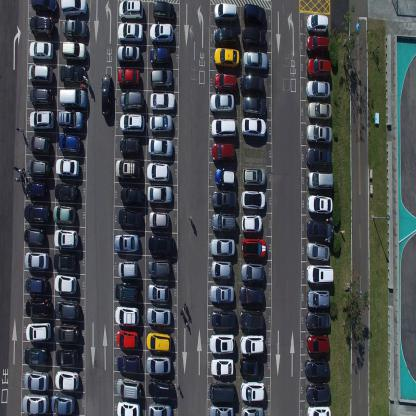car: (212, 46, 240, 70), (59, 86, 87, 110), (21, 392, 49, 416), (241, 236, 267, 261), (242, 49, 269, 72), (210, 116, 237, 139), (114, 157, 141, 180), (117, 21, 144, 44), (306, 263, 334, 285), (210, 212, 238, 234), (147, 234, 175, 256), (29, 39, 54, 63), (304, 356, 330, 379), (307, 193, 333, 216), (306, 122, 332, 145), (146, 330, 172, 353), (148, 376, 174, 399), (116, 376, 142, 399), (29, 108, 55, 131), (210, 308, 237, 330), (58, 110, 85, 132), (23, 202, 50, 224), (241, 95, 266, 118), (240, 333, 265, 356), (211, 142, 236, 165), (119, 184, 144, 207), (54, 322, 79, 345), (29, 15, 54, 38), (240, 379, 266, 401), (305, 382, 331, 404), (305, 309, 331, 331), (306, 218, 332, 240), (307, 170, 333, 192), (306, 146, 332, 168), (241, 116, 267, 138), (211, 189, 237, 211), (209, 333, 235, 355), (148, 22, 174, 44), (147, 137, 173, 159), (146, 183, 172, 205), (62, 18, 88, 40), (61, 41, 87, 63), (54, 369, 80, 391), (25, 320, 51, 342), (25, 296, 51, 318), (209, 381, 236, 402), (238, 284, 265, 305), (149, 91, 176, 112), (145, 354, 172, 375), (306, 240, 330, 263), (240, 73, 264, 96), (58, 133, 82, 156), (51, 392, 75, 415), (306, 56, 331, 78), (244, 3, 266, 28), (241, 26, 266, 48), (239, 309, 264, 331), (239, 356, 264, 378), (213, 24, 238, 46), (146, 304, 171, 326), (115, 282, 140, 304), (119, 112, 144, 134), (116, 44, 141, 66), (53, 227, 78, 249), (53, 274, 78, 296), (24, 370, 49, 392), (26, 157, 51, 179), (29, 86, 54, 108), (28, 63, 53, 85), (209, 92, 235, 113), (148, 113, 174, 134), (28, 133, 51, 156), (306, 333, 330, 355), (306, 288, 330, 310), (305, 34, 329, 56), (242, 166, 266, 188), (213, 71, 237, 93), (116, 352, 140, 374), (118, 207, 142, 229), (52, 204, 76, 226), (55, 298, 79, 320), (307, 100, 332, 121), (115, 305, 140, 326), (114, 232, 139, 253), (24, 250, 49, 271), (209, 284, 235, 304), (146, 258, 172, 278), (152, 0, 174, 23), (116, 328, 139, 350), (117, 67, 140, 89), (240, 262, 264, 283), (150, 68, 174, 89), (146, 161, 170, 182), (61, 0, 89, 18), (56, 157, 80, 178), (54, 182, 78, 203), (53, 252, 77, 273), (119, 90, 144, 110), (118, 0, 144, 19), (60, 65, 86, 84), (306, 12, 328, 34), (214, 166, 236, 188), (101, 73, 112, 117), (150, 45, 171, 68), (23, 226, 46, 247), (306, 79, 330, 99), (241, 190, 265, 210), (213, 2, 237, 22), (24, 346, 48, 366), (210, 237, 235, 256), (148, 283, 170, 304), (117, 258, 138, 280), (119, 135, 141, 156), (210, 260, 233, 280), (25, 180, 48, 200), (24, 275, 48, 294), (148, 210, 170, 230), (211, 357, 234, 376), (56, 348, 79, 367), (241, 213, 262, 233), (30, 0, 58, 15), (116, 400, 141, 416), (147, 401, 172, 415), (209, 403, 234, 415), (241, 404, 264, 415), (307, 405, 332, 415)
